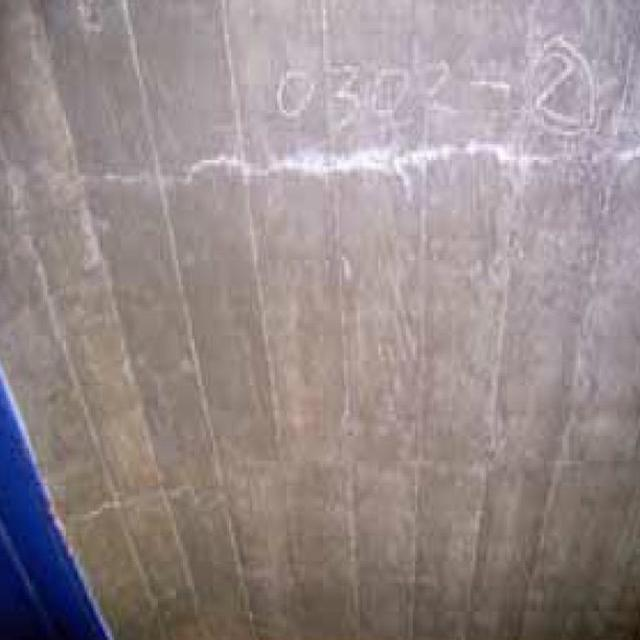freelime: (89, 130, 532, 194)
